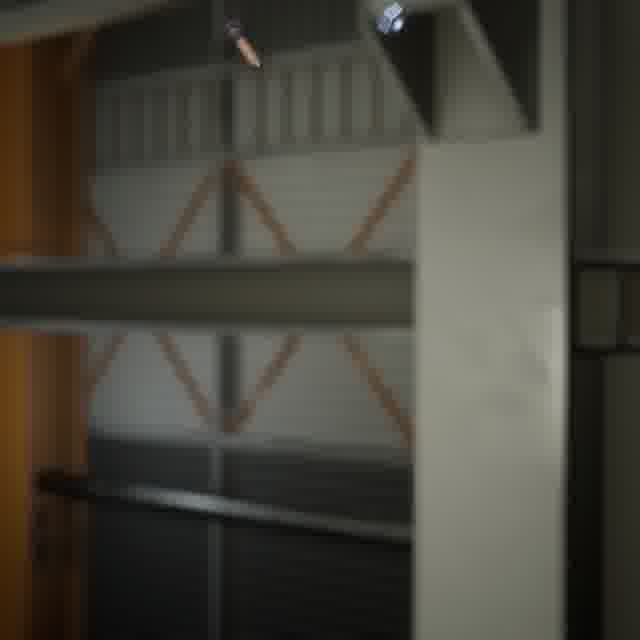bolt: (215, 14, 266, 73)
nut: (373, 0, 412, 42)
